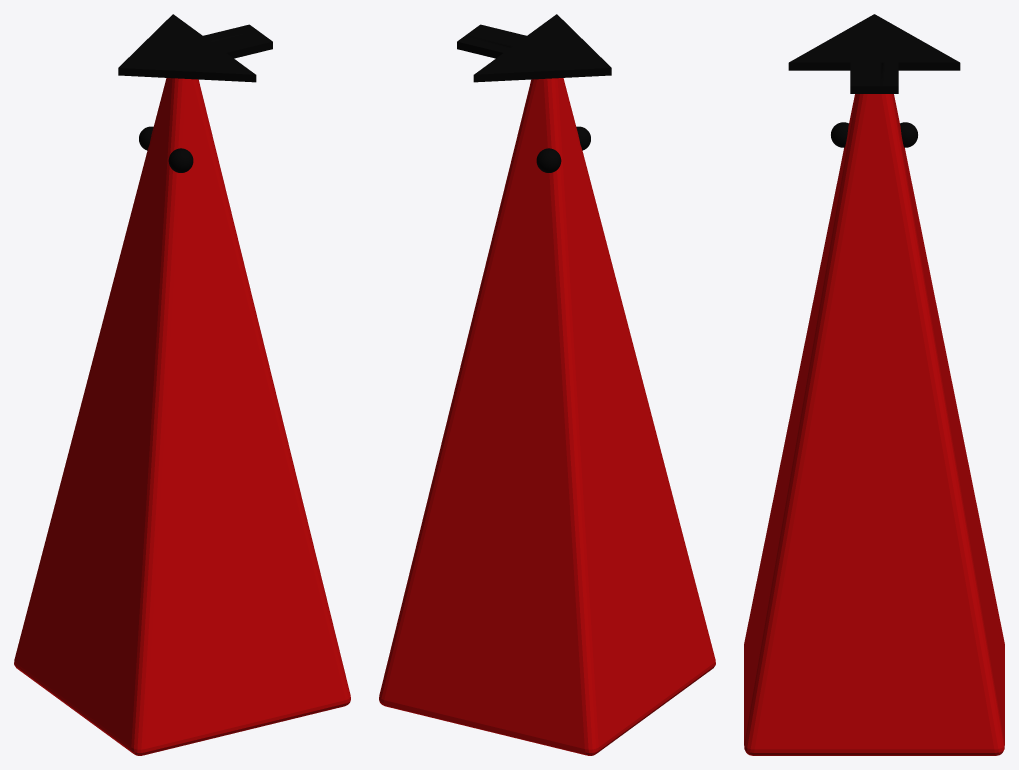
The model's file is tred.obj.
3 renders of one model, left to right at view 1: azimuth 30°, elevation 25°; view 2: azimuth 150°, elevation 25°; view 3: azimuth 270°, elevation 25°, orthographic. The views are drawn at different scales.
Visible parts, largest first — view 1: Cube.019_Cube.004; view 2: Cube.019_Cube.004; view 3: Cube.019_Cube.004.
Boxes of the visible parts, x1,y1,x2,y2 form: Cube.019_Cube.004: [14, 14, 350, 755]; Cube.019_Cube.004: [379, 14, 715, 755]; Cube.019_Cube.004: [744, 14, 1004, 755].
Bounding box in the file's own units: 0.1762 × 0.4901 × 0.1762.
